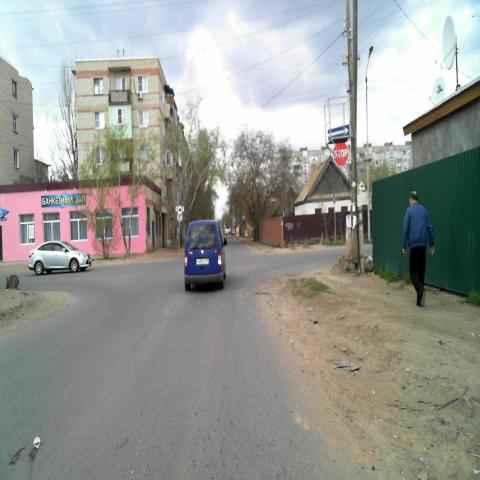5_7_1: (328, 122, 350, 140)
